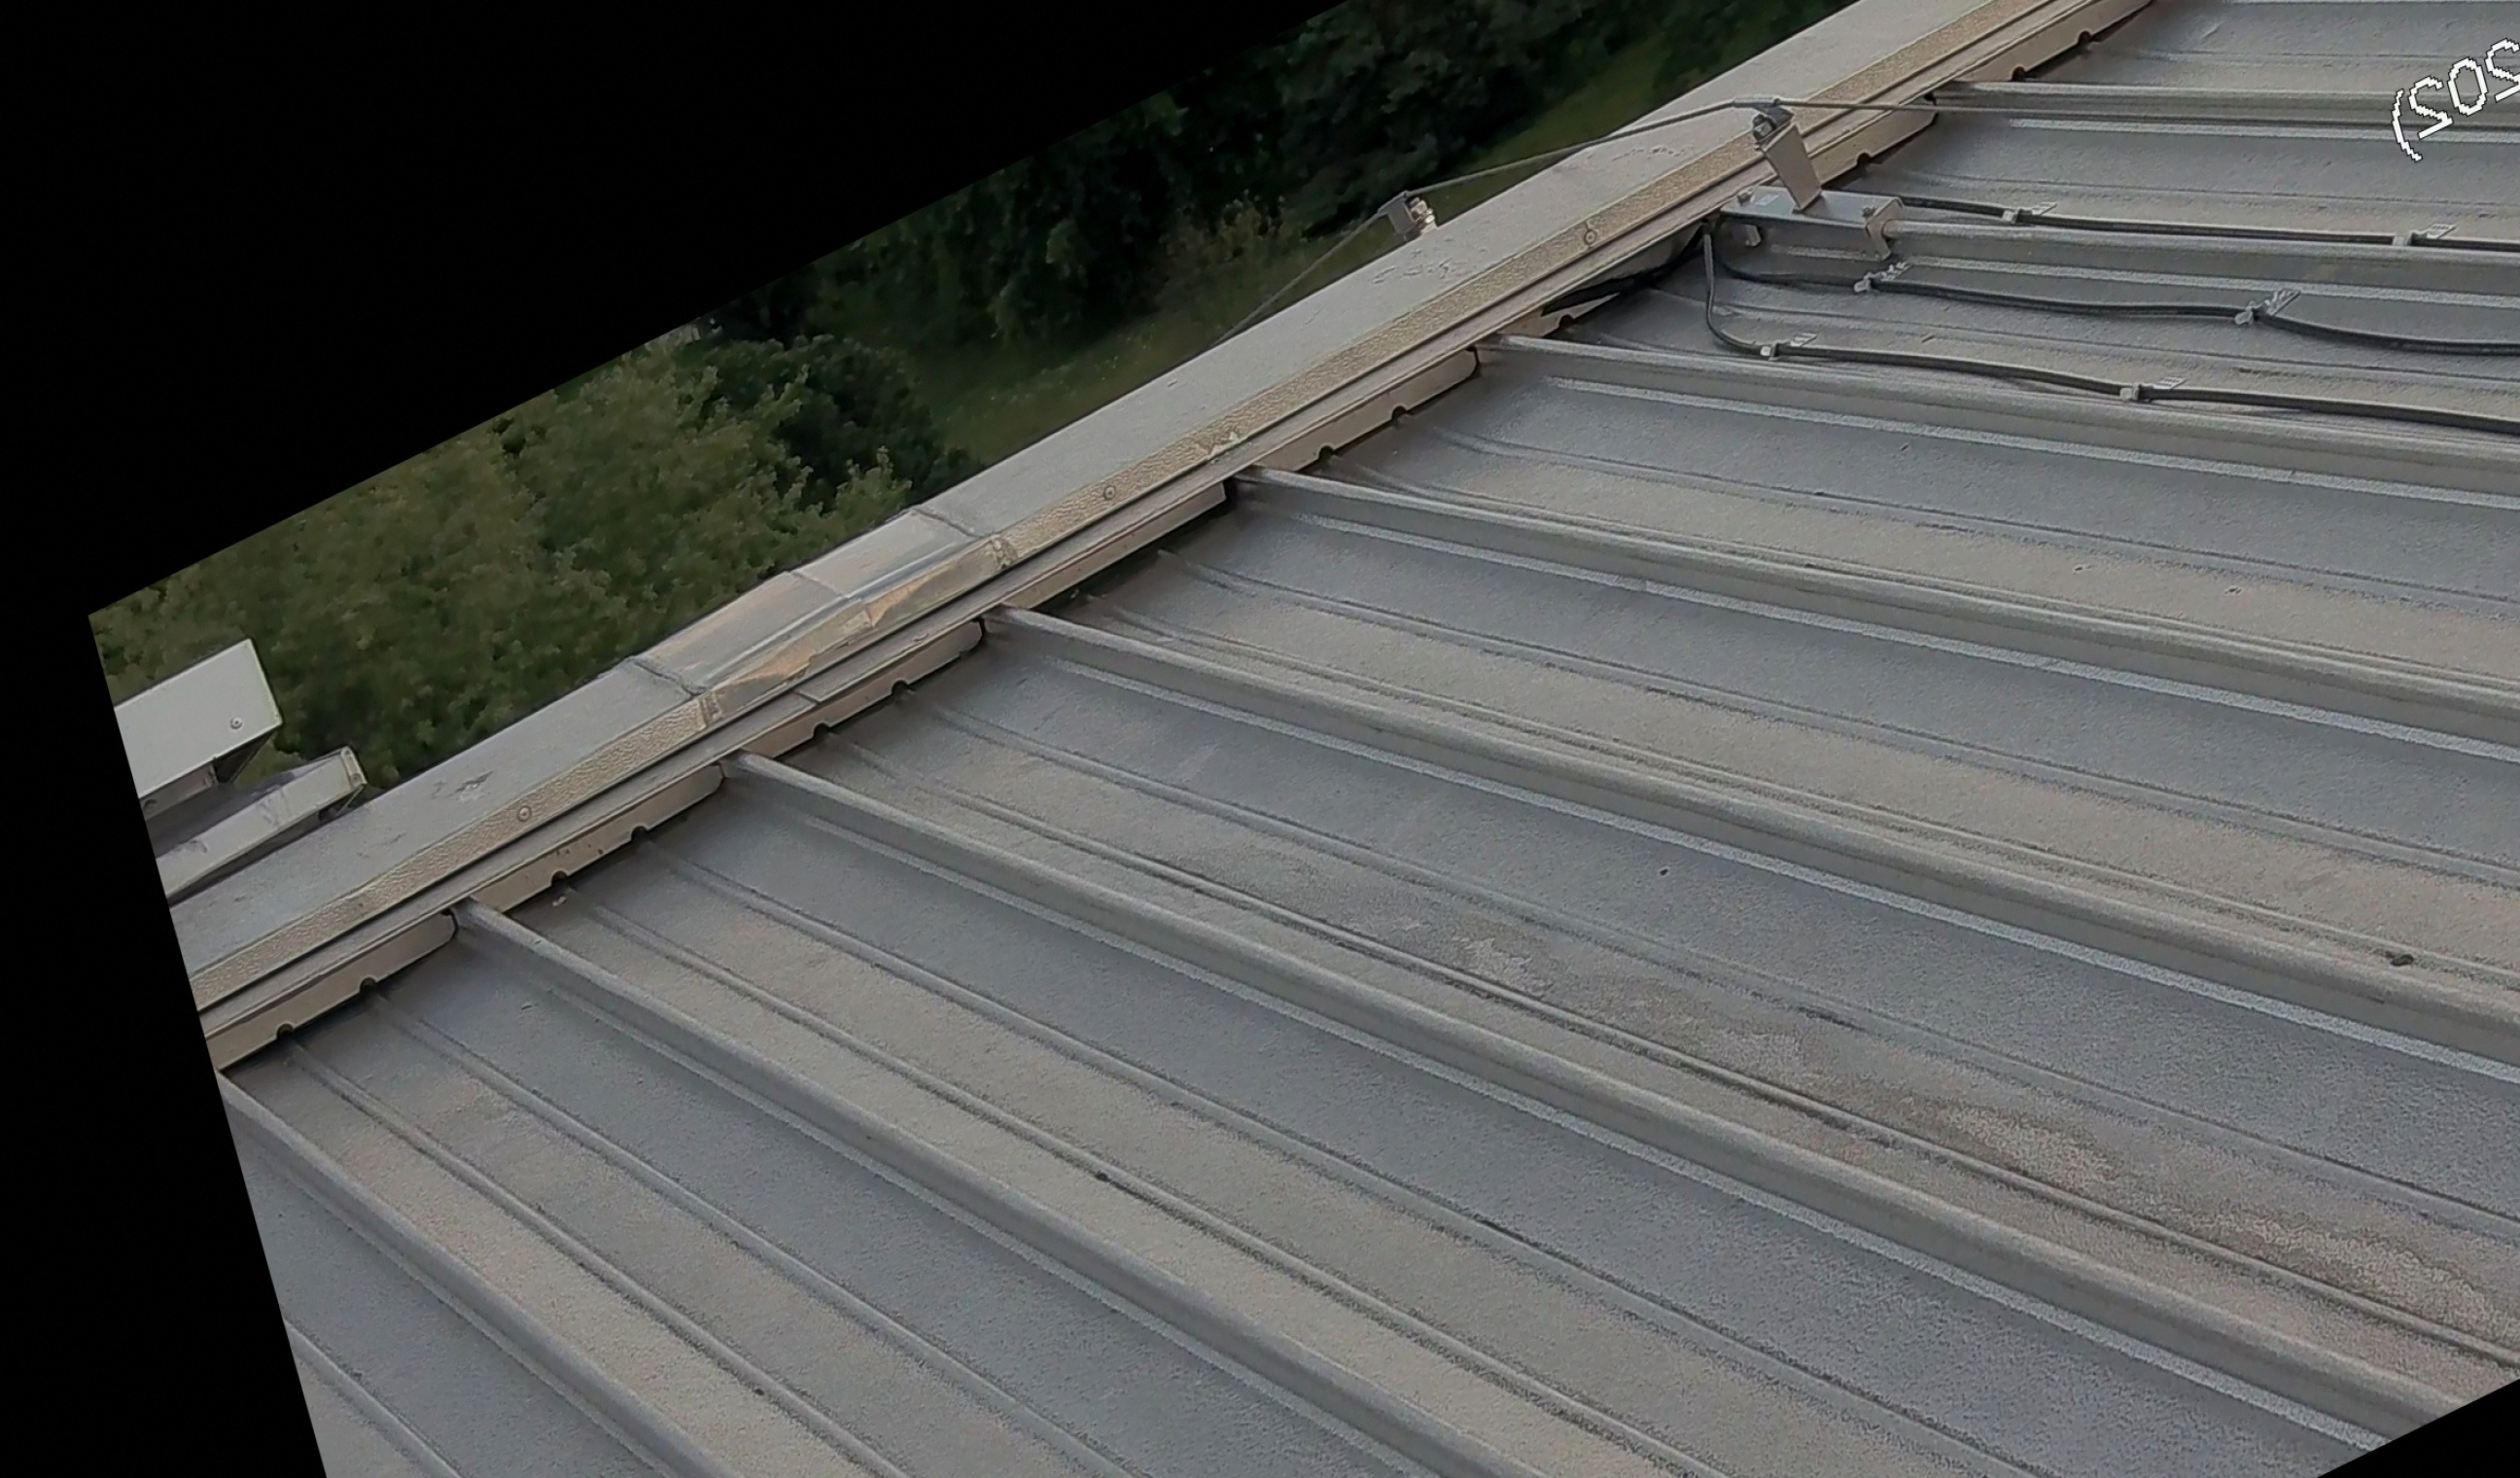Other: (1375, 169, 1446, 255)
